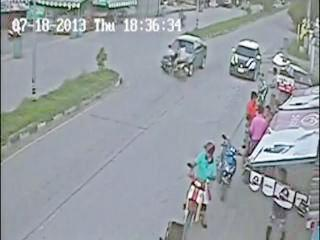Car: (161, 31, 208, 75), (230, 40, 261, 80)
Major Accident: (160, 30, 209, 81)
Motor: (179, 140, 216, 232), (220, 134, 244, 204), (169, 48, 192, 80)
